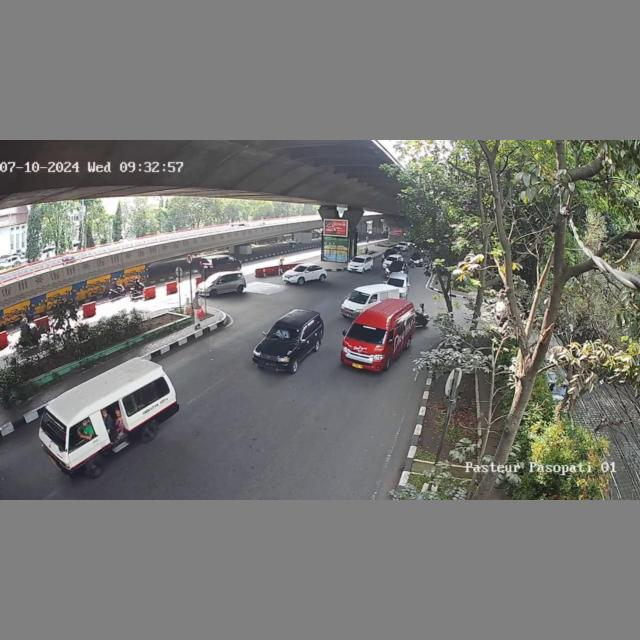windshield: (37, 408, 70, 449), (347, 322, 388, 346), (267, 324, 302, 342), (346, 289, 371, 305), (388, 278, 406, 287)
